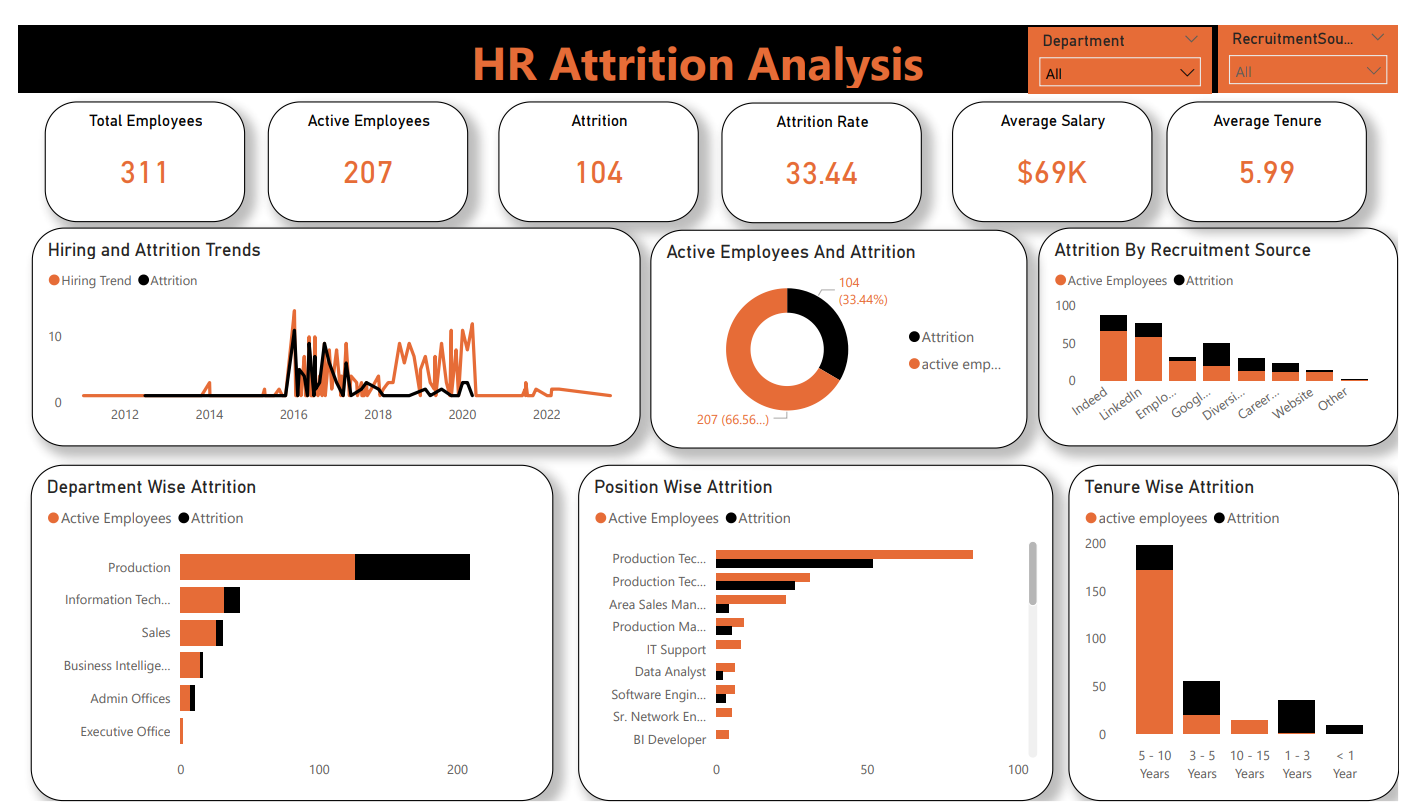

Layout of this report page (visuals, bound fields, positions):
{"tool":"powerbi","page":{"name":"Page 1","canvas":[1280,720],"ordinal":0},"visuals":[{"type":"card","title":"Total Employees","fields":{"Values":["employees.total employees"]},"box":[24.1,70.7,186,112],"z":0},{"type":"card","title":"Attrition ","fields":{"Values":["employees.Attrition"]},"box":[445,70.7,186,112],"z":1000},{"type":"card","title":"Active Employees","fields":{"Values":["employees.active employees"]},"box":[231.3,70.7,186,112],"z":2000},{"type":"card","title":"Attrition Rate","fields":{"Values":["employees.Attrition Rate"]},"box":[652.3,72.3,186,112],"z":3000},{"type":"card","title":"Average Salary","fields":{"Values":["Avg(employees.Salary)"]},"box":[865.9,70.7,186,112],"z":4000},{"type":"barChart","title":" Department Wise Attrition","fields":{"Category":["positions.Department"],"Y":["employees.active employees","employees.Attrition"]},"box":[11.2,408.1,485,311.7],"z":5000},{"type":"clusteredBarChart","title":"Position Wise Attrition","fields":{"Category":["positions.Position"],"Y":["employees.active employees","employees.Attrition"]},"box":[507.9,408.6,451.8,310.8],"z":6000},{"type":"lineChart","title":"Hiring and Attrition Trends","fields":{"Category":["employees.DateOfHire"],"Y":["employees.Hiring Trend","employees.Attrition"]},"box":[12,188,565,203],"z":7000},{"type":"columnChart","title":"Attrition By Recruitment Source","fields":{"Category":["employees.RecruitmentSource"],"Y":["employees.active employees","employees.Attrition"]},"box":[946,188,334,203],"z":8000},{"type":"donutChart","title":"Active Employees And Attrition","fields":{"Y":["employees.Attrition","employees.active employees"]},"box":[586,190,350,203],"z":9000},{"type":"textbox","box":[0,0,1280.4,62.7],"z":10000},{"type":"card","title":"Average Tenure","fields":{"Values":["employees.Avg tenure"]},"box":[1065.2,70.7,186,112],"z":11000},{"type":"columnChart","title":"Tenure Wise Attrition","fields":{"Category":["employees.Tenure Bucket"],"Y":["employees.active employees","employees.Attrition"]},"box":[973.6,408.1,307,311.7],"z":12000},{"type":"slicer","fields":{"Values":["positions.Department"]},"box":[936.6,1.6,170.3,62.7],"z":13000},{"type":"slicer","fields":{"Values":["employees.RecruitmentSource"]},"box":[1113.4,0,167.1,62.7],"z":14000}]}

Visuals, with their boxes in screenshot pixels (x1, y1, x2, y2), scaled from the page's 1280x720 canvas onto the 1419x806 screenshot:
"Total Employees" card: bbox(27, 79, 233, 205)
"Attrition " card: bbox(493, 79, 700, 205)
"Active Employees" card: bbox(256, 79, 463, 205)
"Attrition Rate" card: bbox(723, 81, 929, 206)
"Average Salary" card: bbox(960, 79, 1166, 205)
" Department Wise Attrition" barChart: bbox(12, 457, 550, 805)
"Position Wise Attrition" clusteredBarChart: bbox(563, 457, 1064, 805)
"Hiring and Attrition Trends" lineChart: bbox(13, 210, 640, 438)
"Attrition By Recruitment Source" columnChart: bbox(1049, 210, 1418, 438)
"Active Employees And Attrition" donutChart: bbox(650, 213, 1038, 440)
textbox: bbox(0, 0, 1418, 70)
"Average Tenure" card: bbox(1181, 79, 1387, 205)
"Tenure Wise Attrition" columnChart: bbox(1079, 457, 1418, 805)
slicer - positions.Department: bbox(1038, 2, 1227, 72)
slicer - employees.RecruitmentSource: bbox(1234, 0, 1418, 70)
